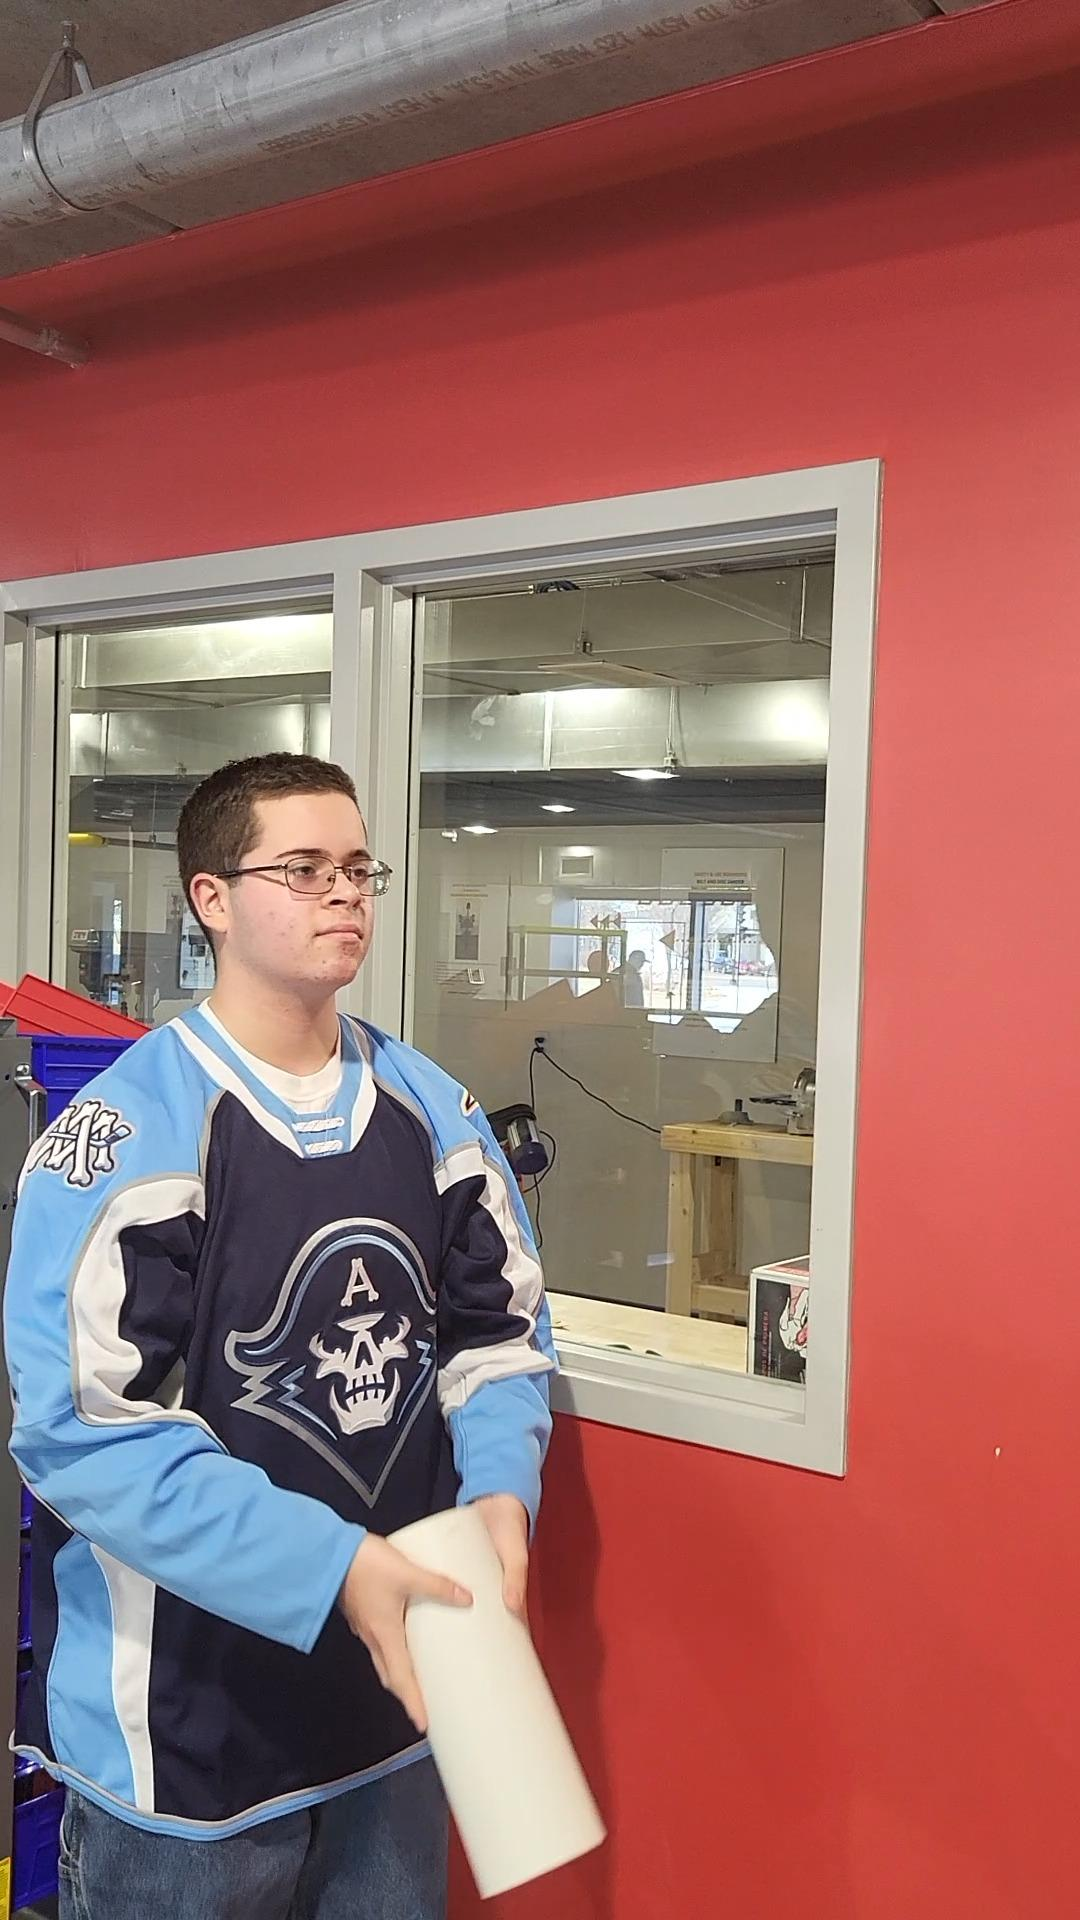coral: (360, 1497, 611, 1904)
